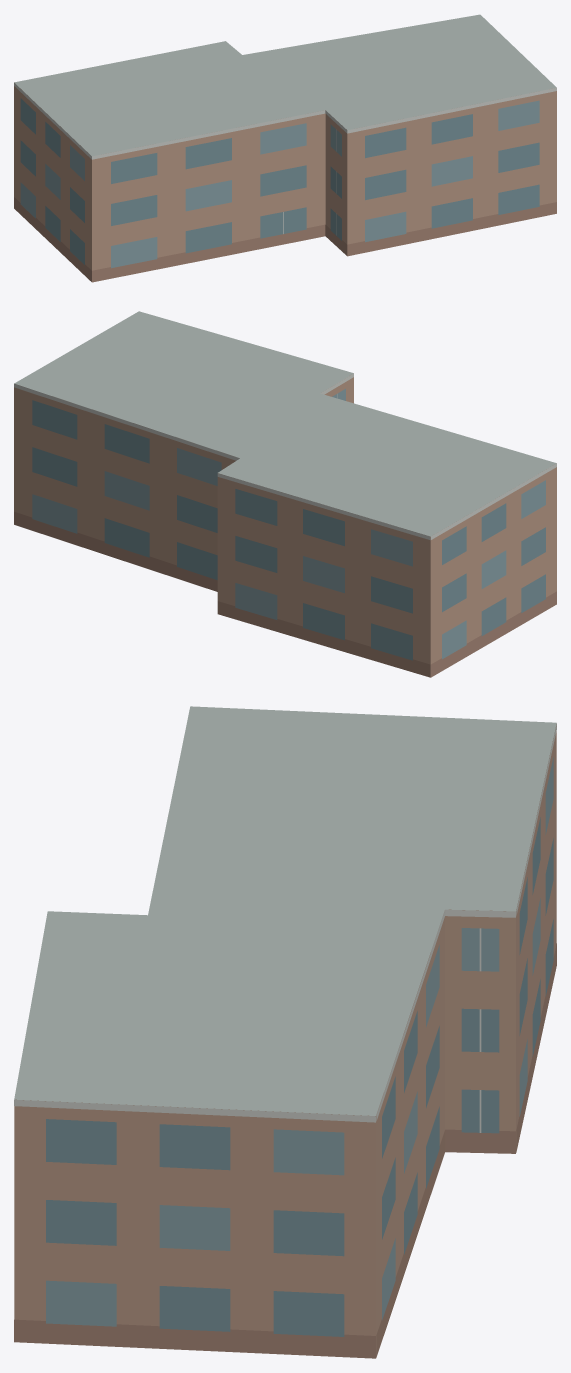
Rendered from survey-upis-32634510.glb.
3 views of the same model, one above another, from view 1: azimuth 30°, elevation 25°; view 2: azimuth 150°, elevation 25°; view 3: azimuth 270°, elevation 25° (orthographic). The views are drawn at different scales.
Parts seen in each view (by area): view 1: survey-upis-32634510.tmp; view 2: survey-upis-32634510.tmp; view 3: survey-upis-32634510.tmp.
Part boxes in pixels (box(x1,y1,x2,y2)): survey-upis-32634510.tmp: box(14, 14, 556, 282); survey-upis-32634510.tmp: box(14, 311, 556, 677); survey-upis-32634510.tmp: box(14, 706, 556, 1358).
Bounding box in the file's own units: 33.17 × 9.15 × 18.57.
